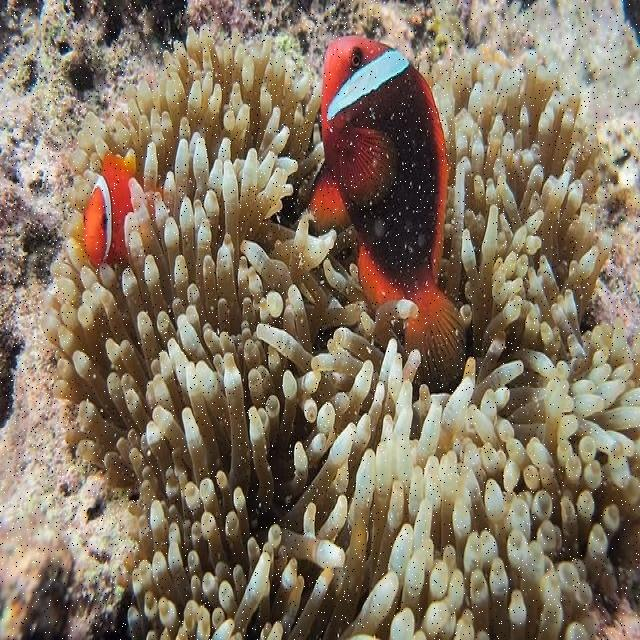fish: (307, 35, 466, 386), (82, 151, 135, 271)
reefs: (41, 25, 639, 639)
